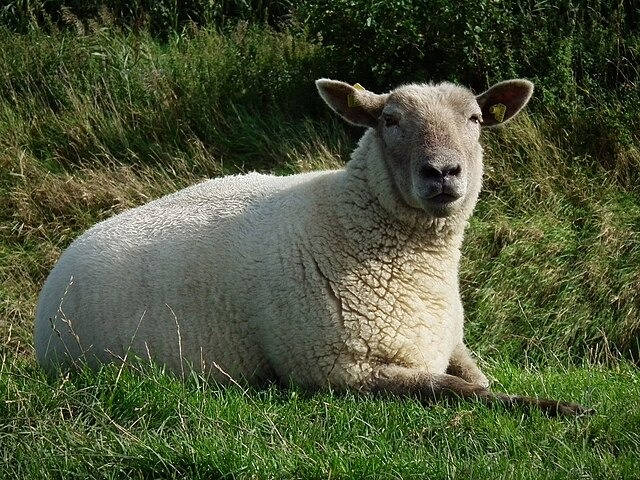resting: (36, 71, 591, 425)
